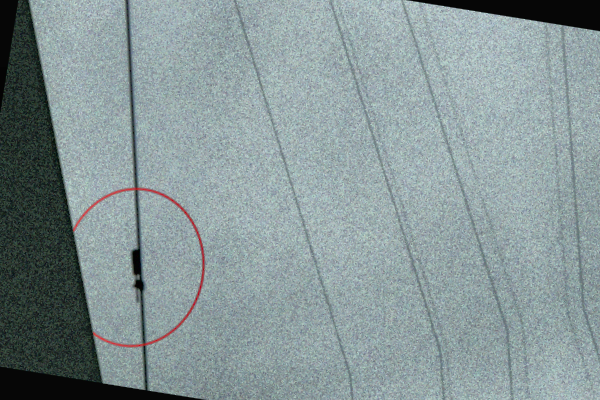damper_defect: (130, 247, 147, 305)
